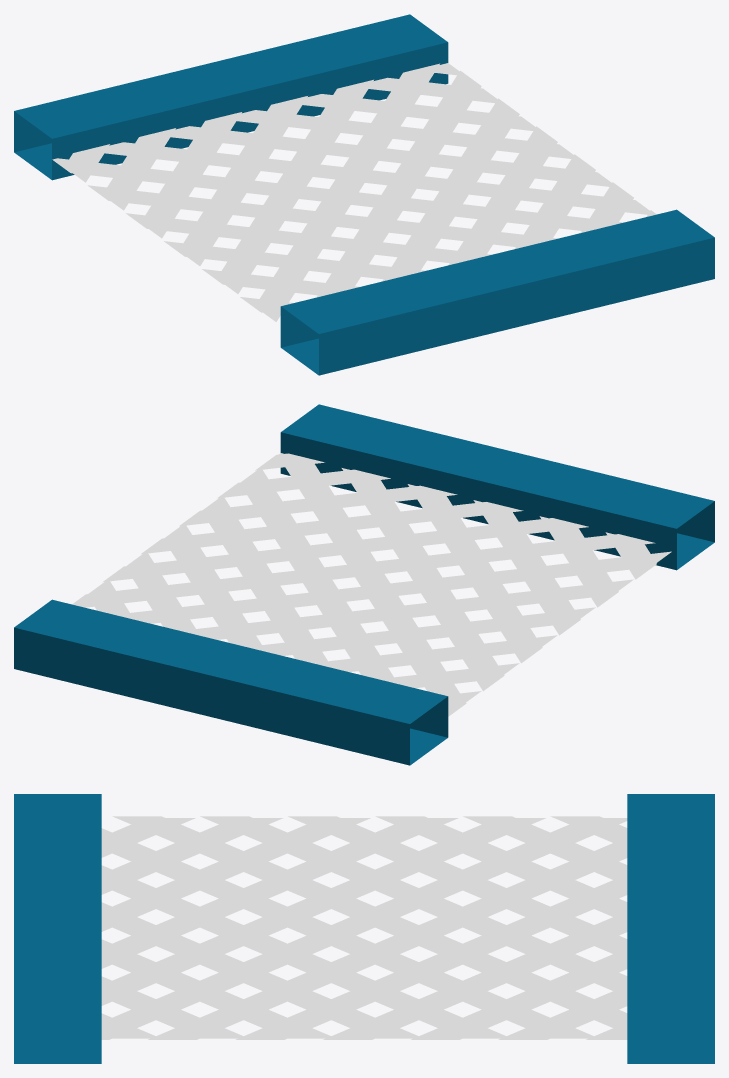
The model's file is G02_020_Floor_Mesh_WS.fbx.
The picture shows the model from 3 angles, top to bottom: view 1: azimuth 30°, elevation 25°; view 2: azimuth 150°, elevation 25°; view 3: azimuth 270°, elevation 25°; orthographic projection. The views are drawn at different scales.
Parts seen in each view (by area): view 1: 平面.048, 009_Mesh_WS_B; view 2: 平面.048, 009_Mesh_WS_B; view 3: 平面.048, 009_Mesh_WS_B.
Part boxes in pixels (x1,y1,x2,y2): 平面.048: (52,63,656,321); 009_Mesh_WS_B: (14,14,714,375); 平面.048: (72,453,671,716); 009_Mesh_WS_B: (14,404,714,765); 平面.048: (101,816,627,1039); 009_Mesh_WS_B: (14,794,714,1063).
Size of the model in its own units: 300 by 30 by 400.
